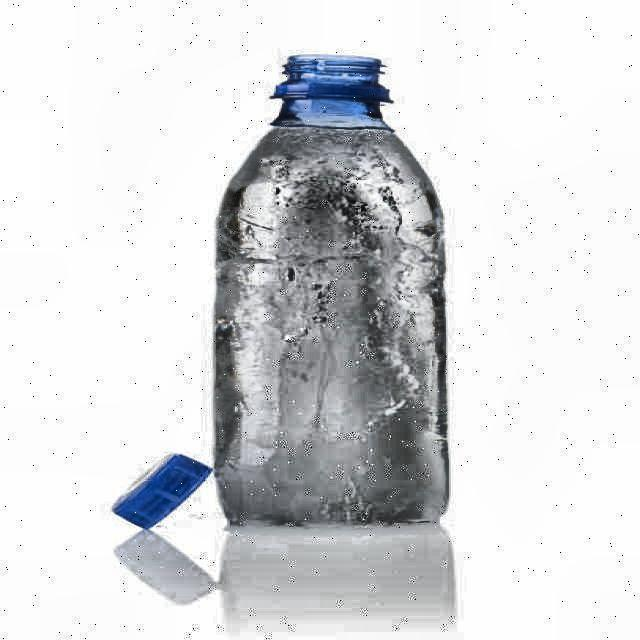plastic: (209, 53, 452, 532), (111, 454, 213, 531)
